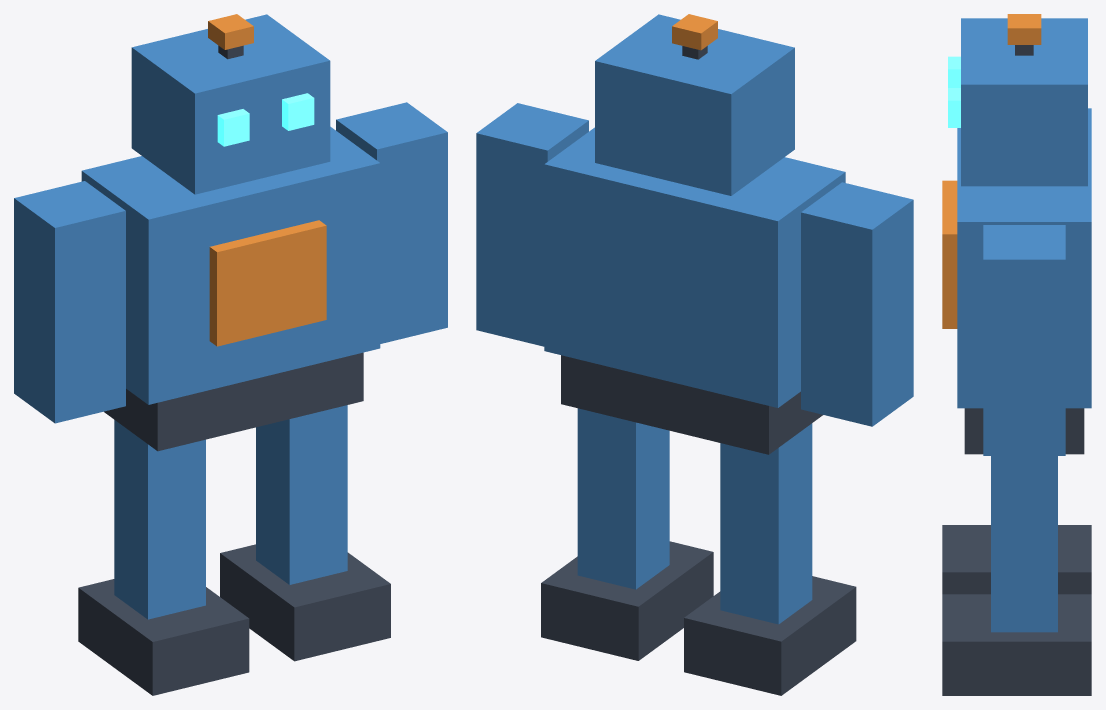
The model's file is malformed_attributes.glb.
3 views of the same model, side by side, from view 1: azimuth 30°, elevation 25°; view 2: azimuth 150°, elevation 25°; view 3: azimuth 270°, elevation 25° (orthographic).
Visible parts, largest first — view 1: Torso, Head, LeftArm, RightArm, LeftLeg, RightLeg, LeftFoot, RightFoot, ChestPanel, Hips, AntennaTip, RightEye (+1 smaller); view 2: Torso, Head, LeftArm, RightArm, LeftLeg, RightLeg, LeftFoot, RightFoot, Hips, AntennaTip; view 3: Head, RightArm, Torso, RightFoot, RightLeg, LeftFoot, ChestPanel, Hips, AntennaTip, RightEye, LeftEye.
Boxes of the visible parts, box(x1,y1,x2,y2) form: Torso: box(81, 126, 380, 404); Head: box(131, 14, 330, 194); LeftArm: box(14, 181, 125, 423); RightArm: box(336, 102, 447, 343); LeftLeg: box(114, 420, 205, 619); RightLeg: box(256, 405, 347, 584); LeftFoot: box(78, 579, 249, 695); RightFoot: box(220, 544, 390, 661); ChestPanel: box(209, 220, 326, 346); Hips: box(104, 352, 363, 451); AntennaTip: box(208, 14, 253, 49); RightEye: box(282, 93, 314, 130); Torso: box(544, 127, 845, 407); Head: box(595, 14, 794, 195); LeftArm: box(801, 182, 913, 426); RightArm: box(476, 103, 588, 346); LeftLeg: box(720, 423, 812, 624); RightLeg: box(577, 408, 669, 589); LeftFoot: box(684, 576, 856, 695); RightFoot: box(541, 541, 713, 660); Hips: box(561, 355, 822, 454); AntennaTip: box(672, 14, 717, 50); Head: box(961, 18, 1087, 186); RightArm: box(983, 225, 1065, 455); Torso: box(957, 108, 1091, 408); RightFoot: box(942, 594, 1091, 695); RightLeg: box(991, 456, 1057, 632); LeftFoot: box(942, 525, 1091, 594); ChestPanel: box(942, 180, 957, 328); Hips: box(964, 408, 1084, 454); AntennaTip: box(1007, 14, 1041, 44); RightEye: box(948, 88, 960, 127); LeftEye: box(948, 56, 960, 87).
Bounding box in the file's own units: 1.22 × 1.82 × 0.4.
